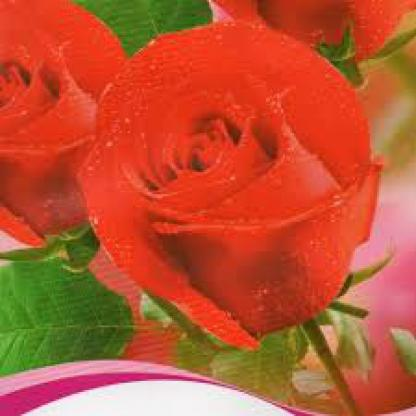Rose-Mawar: (1, 1, 404, 343)
